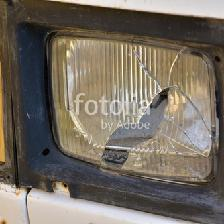broken_light: (15, 1, 211, 202)
